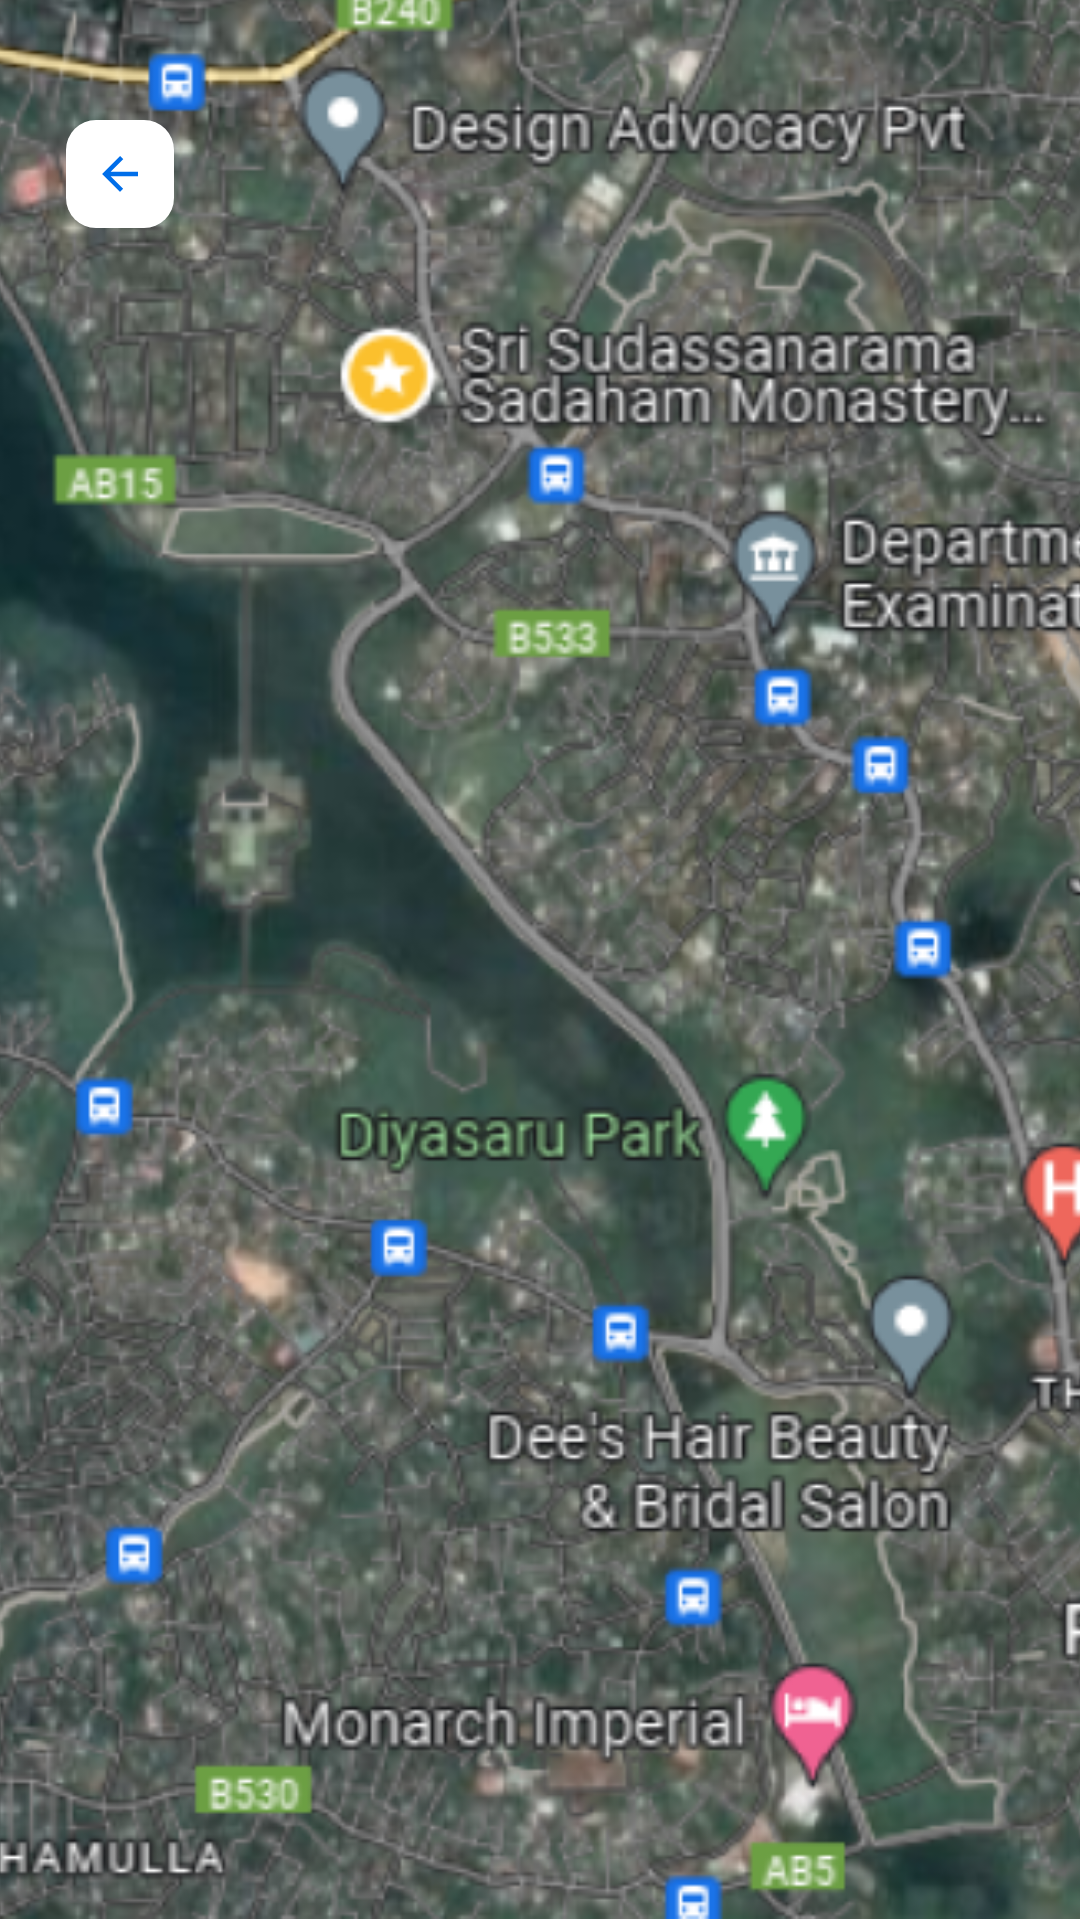

Icons on this 1080 x 1920 Android screen, each with its box as (x1, y1, x2, y2):
bacwhite: (66, 120, 174, 228)
